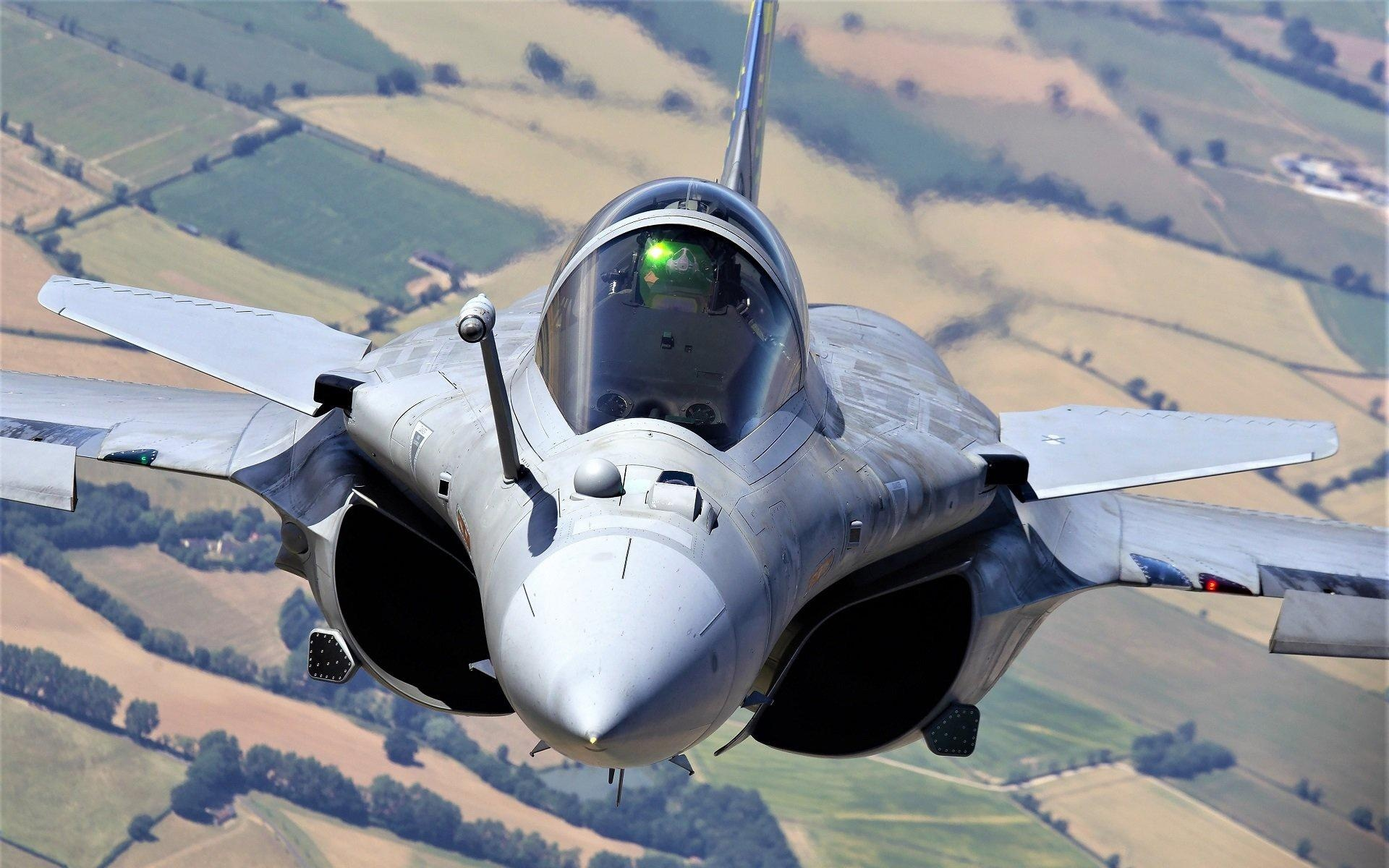aircraft: (10, 1, 1378, 792)
